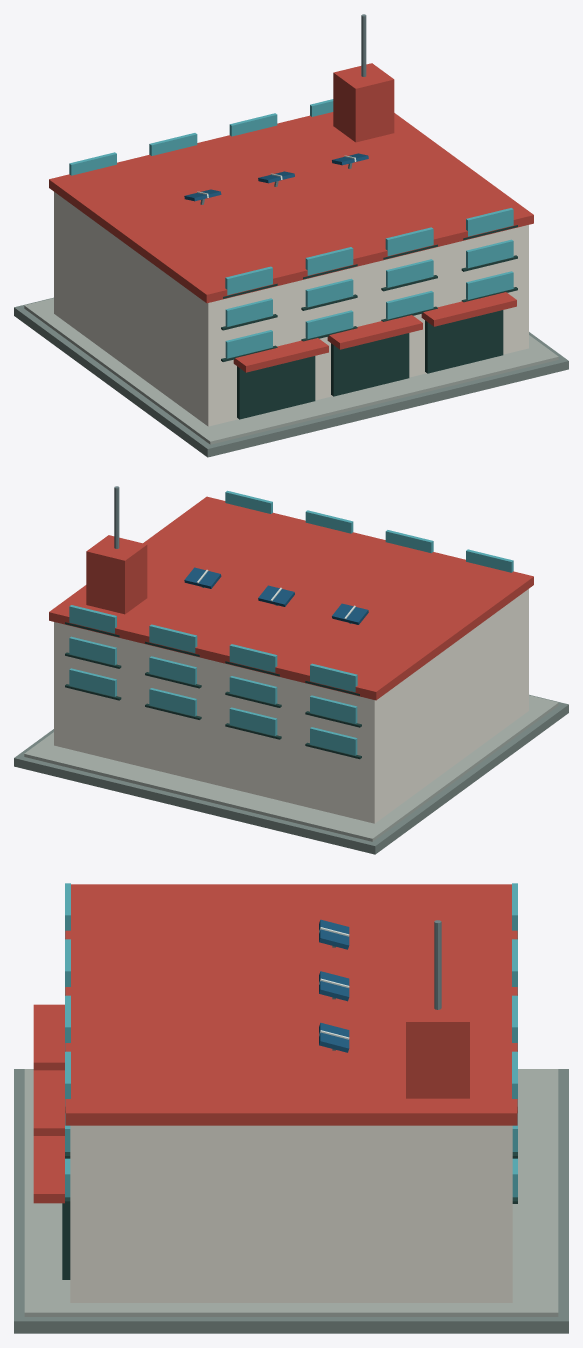
The model's file is fire_lv3.glb.
3 views of the same model, one above another, from view 1: azimuth 30°, elevation 25°; view 2: azimuth 150°, elevation 25°; view 3: azimuth 270°, elevation 25° (orthographic). The views are drawn at different scales.
Parts seen in each view (by area): view 1: red, ivory, glass, dark, concrete, pavement, solar; view 2: ivory, red, glass, concrete, pavement, dark, solar; view 3: red, ivory, concrete, pavement, glass, solar, dark, steel.
Part boxes in pixels (left/top/right/bottom): red: left=49, top=63, right=533, bottom=372; ivory: left=54, top=192, right=528, bottom=426; glass: left=69, top=99, right=513, bottom=358; dark: left=221, top=225, right=517, bottom=419; concrete: left=24, top=298, right=558, bottom=444; pavement: left=14, top=297, right=568, bottom=457; solar: left=184, top=153, right=368, bottom=201; ivory: left=54, top=589, right=528, bottom=823; red: left=49, top=496, right=533, bottom=700; glass: left=69, top=490, right=513, bottom=755; concrete: left=24, top=695, right=558, bottom=841; pavement: left=14, top=694, right=568, bottom=854; dark: left=65, top=622, right=361, bottom=759; solar: left=184, top=567, right=368, bottom=624; red: left=33, top=884, right=517, bottom=1203; ivory: left=70, top=1125, right=512, bottom=1302; concrete: left=24, top=1069, right=558, bottom=1316; pavement: left=14, top=1069, right=568, bottom=1333; glass: left=65, top=883, right=517, bottom=1197; solar: left=319, top=919, right=349, bottom=1052; dark: left=62, top=995, right=517, bottom=1279; steel: left=332, top=920, right=441, bottom=1050.
Size of the model in its own units: 9.8 by 6.73 by 9.1.
